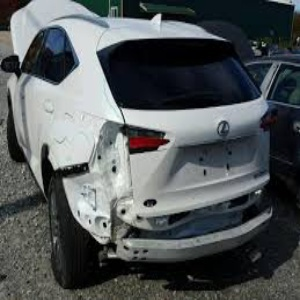bumper: (59, 173, 154, 260)
tail_lights: (90, 115, 169, 156)
